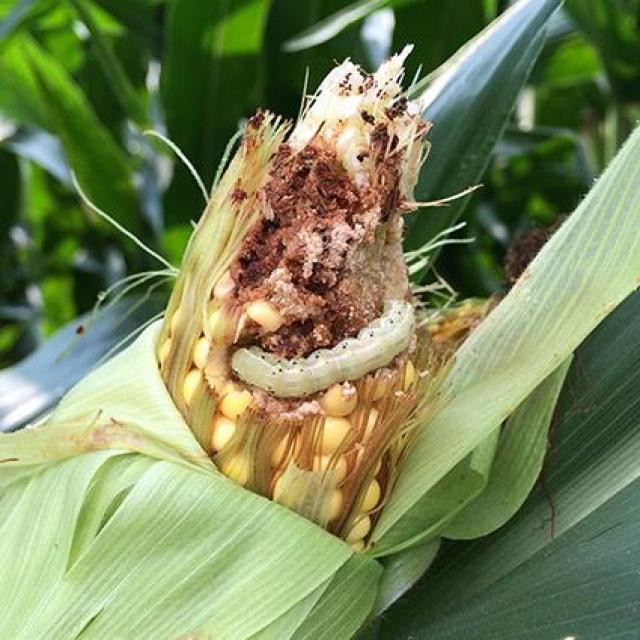Corn-earworm: (220, 302, 414, 399)
